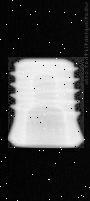Novodent: (6, 56, 84, 149)
